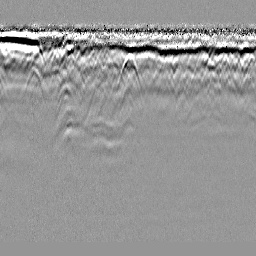cavity: (116, 51, 143, 95)
